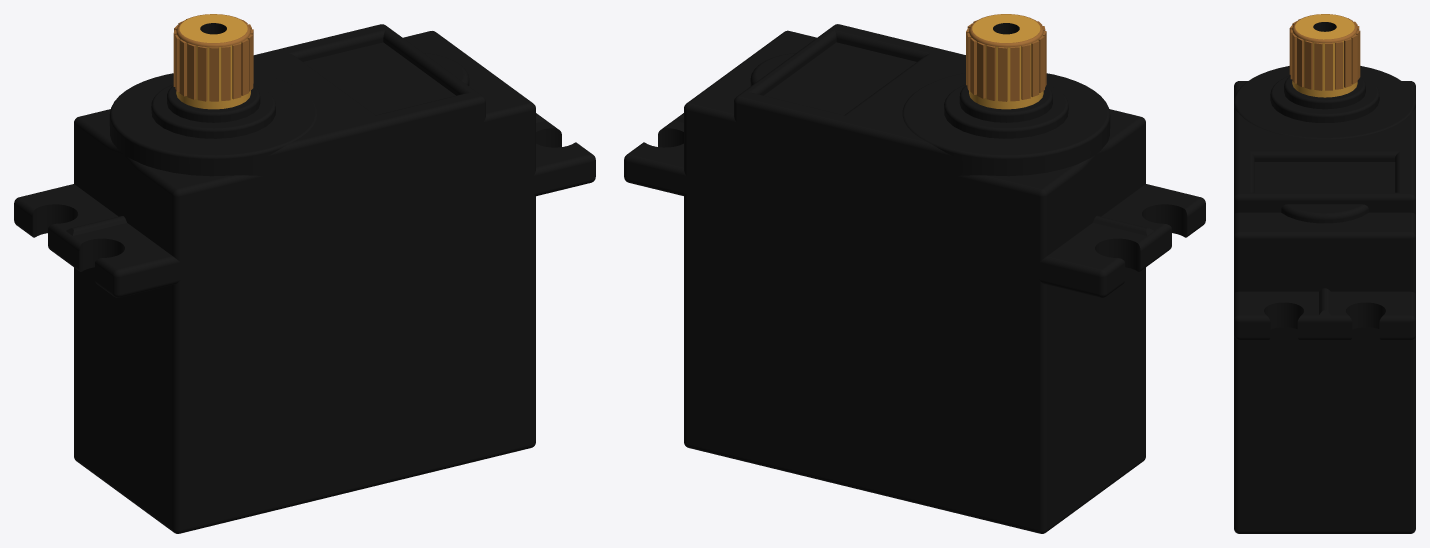
Rendered from Servo_MG996R.glb.
3 views of the same model, side by side, from view 1: azimuth 30°, elevation 25°; view 2: azimuth 150°, elevation 25°; view 3: azimuth 270°, elevation 25° (orthographic). The views are drawn at different scales.
Parts seen in each view (by area): view 1: Servo MG996R; view 2: Servo MG996R; view 3: Servo MG996R.
Part boxes in pixels (<box>): Servo MG996R: <box>14,14,595,533</box>; Servo MG996R: <box>624,14,1205,533</box>; Servo MG996R: <box>1234,14,1415,533</box>.
Size of the model in its own units: 0.0536 by 0.0476 by 0.02.
